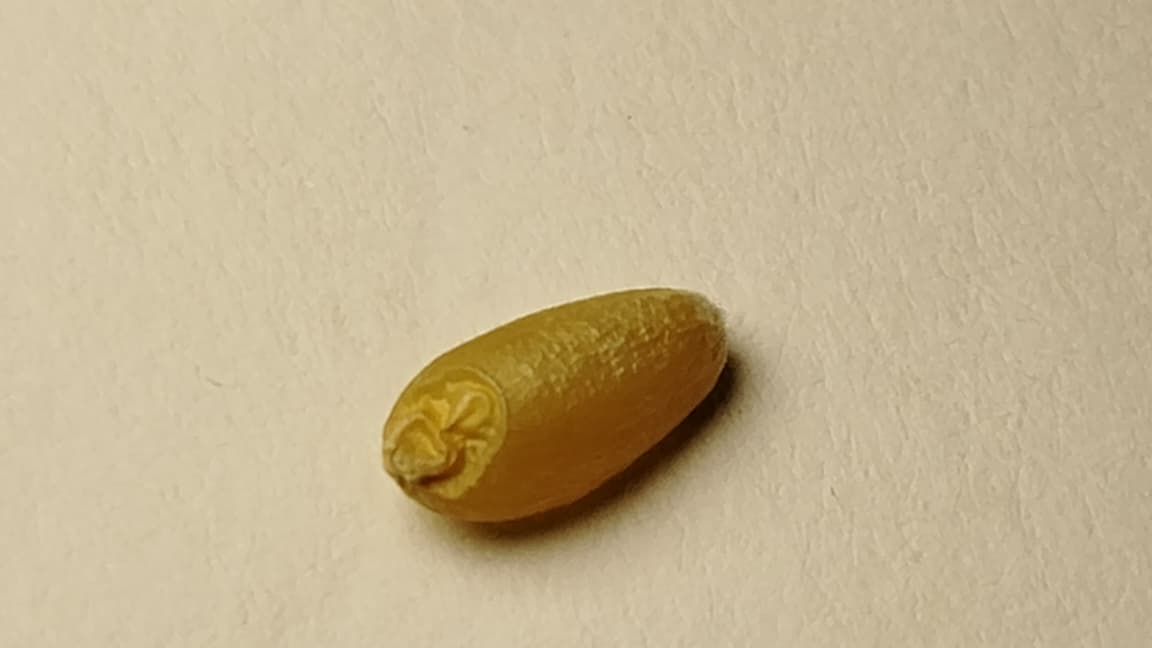healthy: (384, 287, 727, 521)
